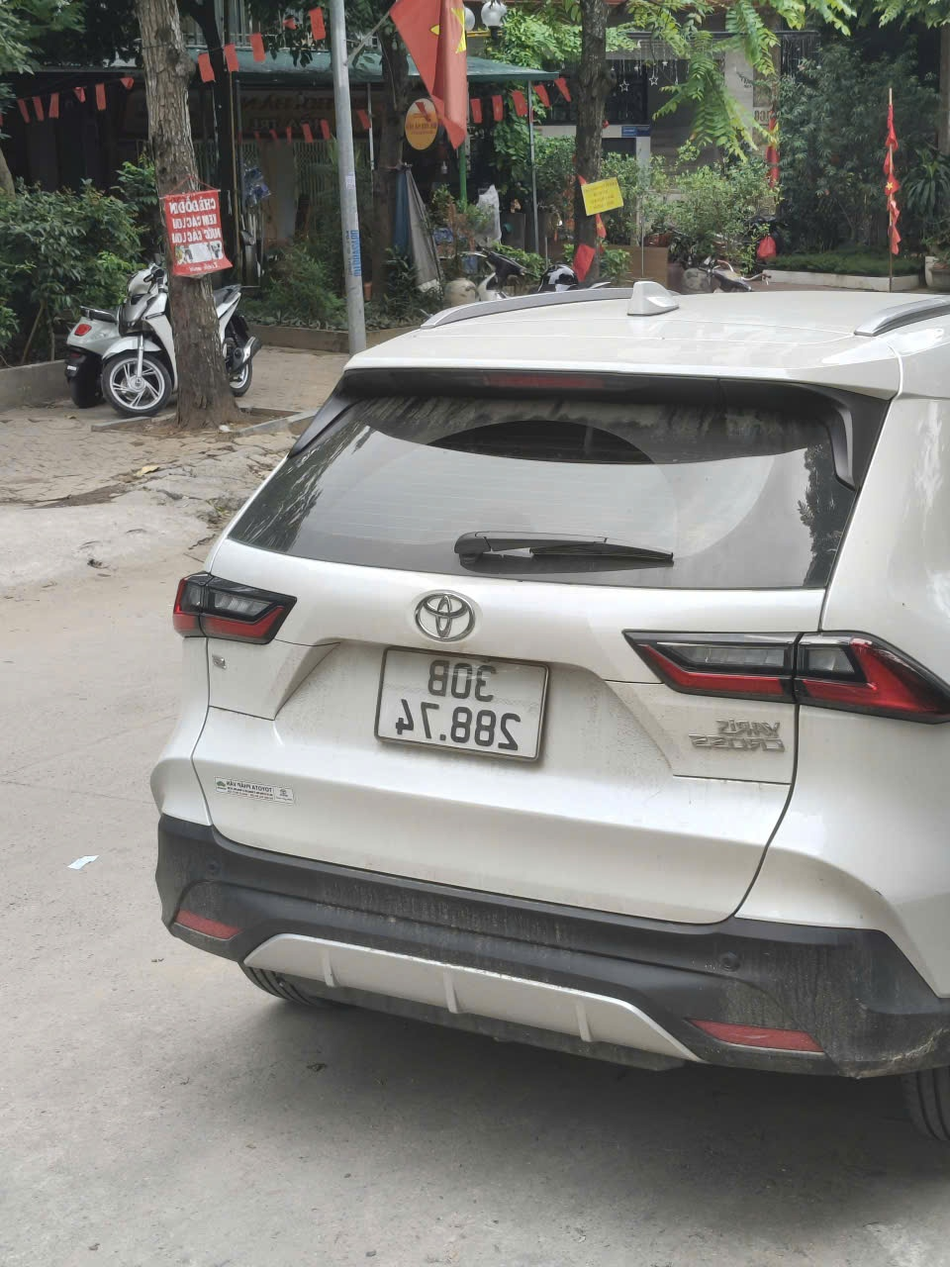plate: (683, 715, 794, 758)
